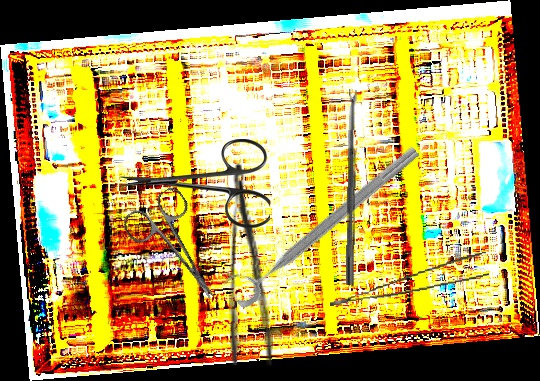Dressing Forceps: (227, 163, 277, 366)
Fixation Ring: (220, 131, 424, 311)
Iris Scissors: (119, 184, 238, 317), (120, 139, 270, 228)
Surgical Spoon: (345, 89, 359, 286)
Tissue Forceps: (325, 251, 491, 307)
